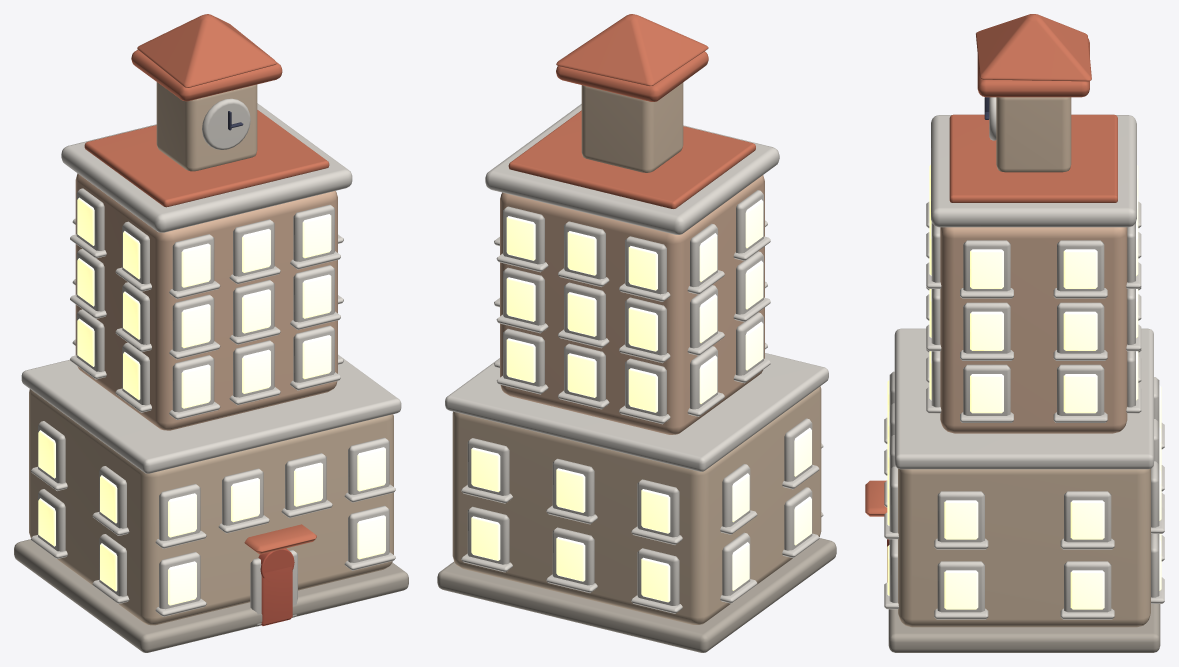
The picture shows the model from 3 angles, left to right: view 1: azimuth 30°, elevation 25°; view 2: azimuth 150°, elevation 25°; view 3: azimuth 270°, elevation 25°; orthographic projection. The views are drawn at different scales.
Visible parts, largest first — view 1: Cube; view 2: Cube; view 3: Cube.
Part boxes in pixels (left/top/right/bottom): Cube: left=14, top=14, right=408, bottom=652; Cube: left=437, top=14, right=836, bottom=652; Cube: left=865, top=14, right=1164, bottom=652.
Size of the model in its own units: 0.699 by 1.35 by 0.6395.
